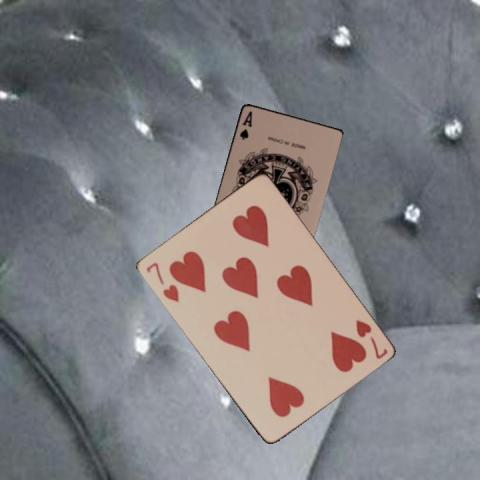7h: (142, 259, 180, 303), (352, 316, 389, 360)
As: (237, 107, 253, 141)
